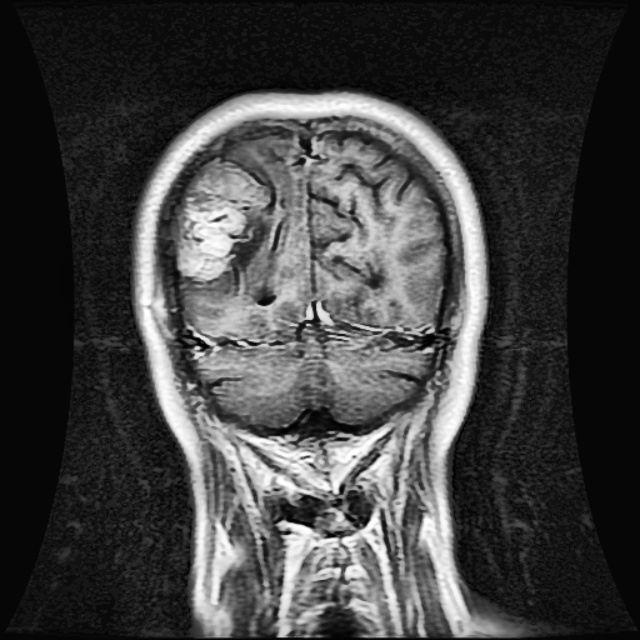Glioma: (173, 159, 273, 279)
